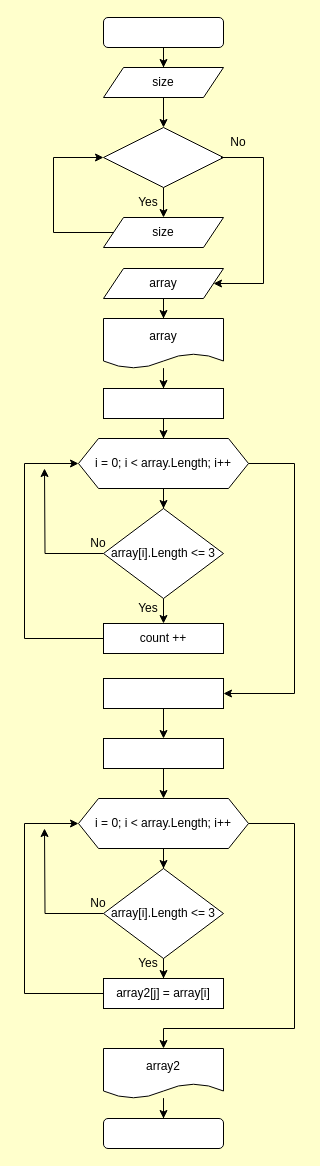
Image size: 320x1166. Some labels were removed from this diagram. Each missing label, with the centre of its shape:
"array2 [count]" goes at point 163,693.
"count = 0" goes at point 163,403.
"j = 0" goes at point 163,753.
"size < 0" goes at point 163,157.
"конец" goes at point 163,1133.
"начало" goes at point 163,32.
